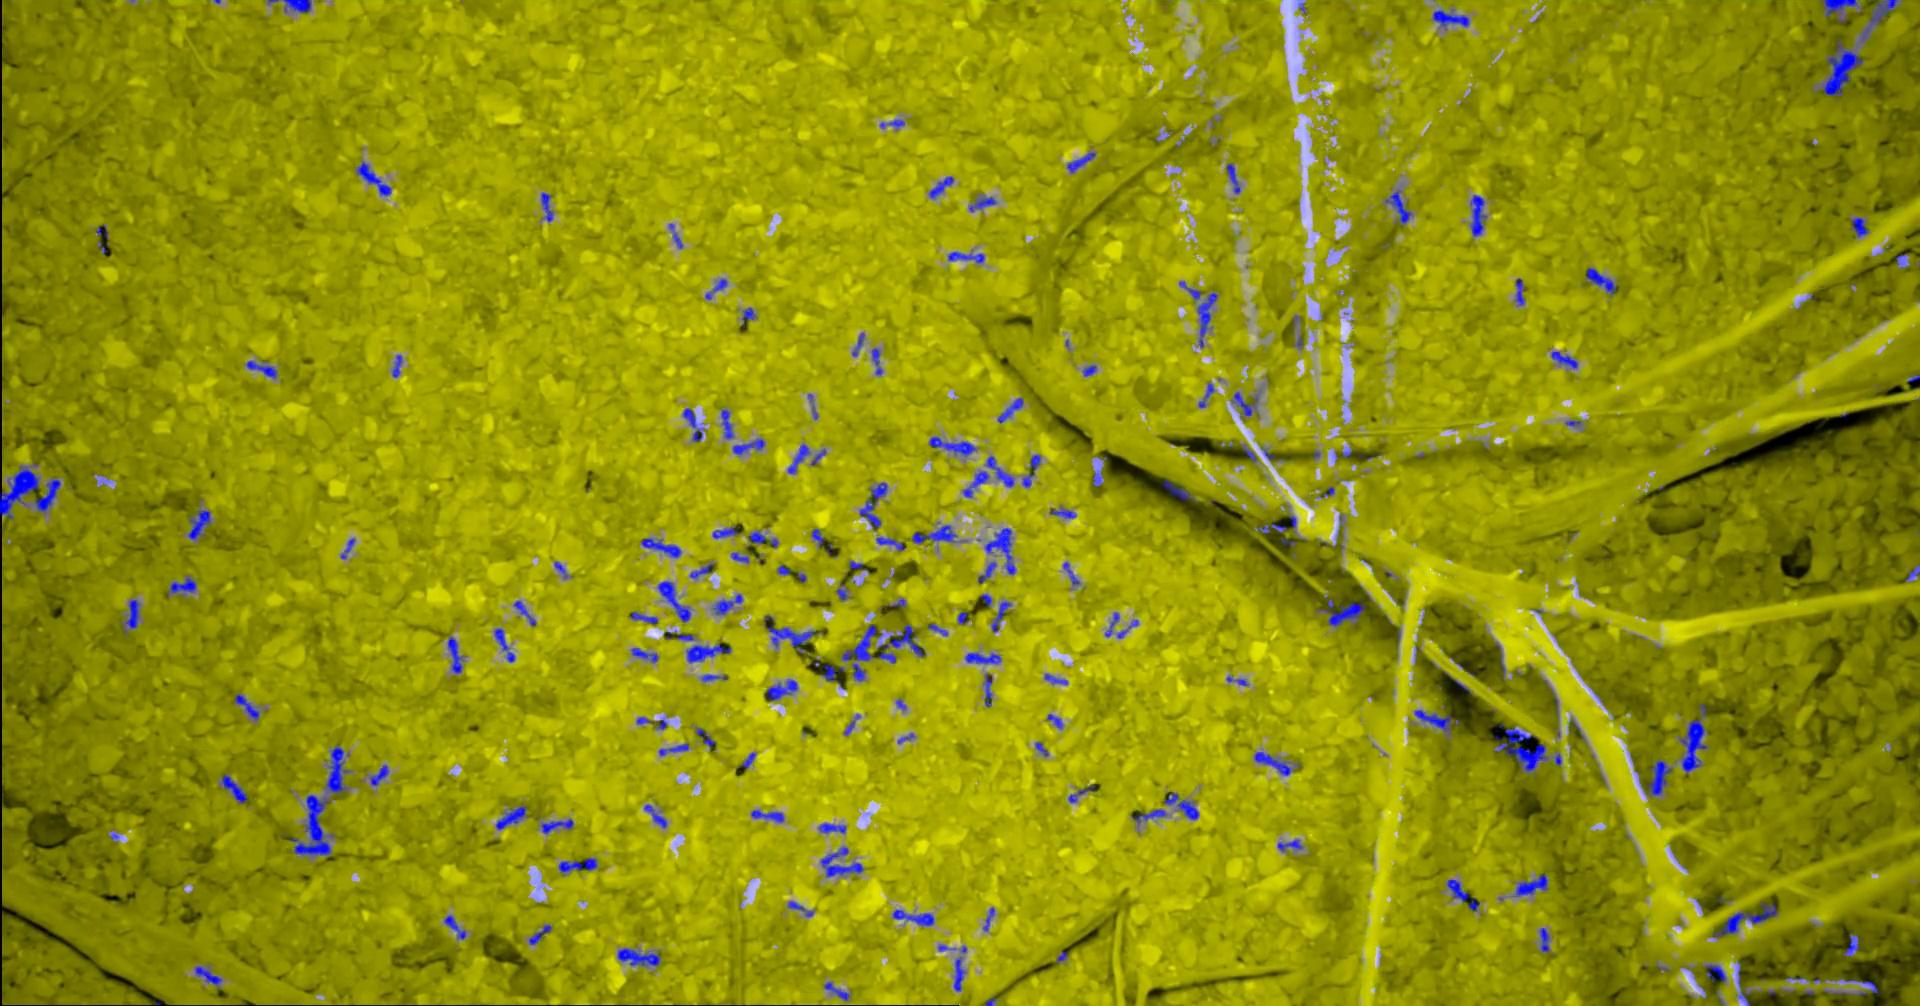ant: (288, 794, 331, 855), (1495, 727, 1547, 774), (1712, 901, 1777, 937), (1821, 39, 1863, 95), (841, 624, 881, 681), (0, 465, 38, 520), (764, 615, 814, 653), (877, 622, 923, 663), (1679, 719, 1707, 774), (984, 527, 1015, 574), (1862, 0, 1897, 39), (657, 580, 690, 621), (858, 481, 888, 527), (820, 846, 863, 876), (1322, 598, 1365, 626), (356, 161, 390, 196), (325, 746, 348, 793), (1446, 879, 1479, 911), (1197, 292, 1217, 347), (811, 658, 844, 688), (928, 436, 975, 456), (1415, 709, 1458, 730), (1164, 791, 1197, 819), (1253, 751, 1291, 775), (985, 455, 1013, 486), (1385, 191, 1411, 225), (1647, 760, 1671, 795), (1585, 267, 1617, 293), (686, 643, 730, 662), (34, 478, 60, 511), (910, 525, 956, 542), (221, 774, 248, 803), (640, 539, 681, 558), (617, 948, 660, 965), (1162, 479, 1196, 500), (495, 805, 526, 829), (1514, 874, 1547, 895), (682, 406, 702, 441), (963, 470, 988, 497), (494, 627, 514, 661), (764, 680, 797, 700), (234, 694, 259, 719), (1230, 391, 1257, 415), (997, 398, 1023, 422), (187, 511, 210, 539), (891, 909, 933, 925), (787, 443, 809, 473), (194, 965, 221, 988), (1821, 0, 1858, 17), (1432, 9, 1469, 25), (557, 857, 597, 873), (712, 593, 742, 614), (1022, 453, 1040, 486), (1470, 194, 1484, 236), (990, 601, 1010, 631), (168, 575, 196, 596), (447, 636, 462, 673), (1065, 152, 1095, 171), (246, 359, 276, 379), (513, 600, 535, 625), (643, 804, 665, 827), (928, 177, 952, 198), (443, 915, 465, 939), (748, 530, 777, 547), (731, 438, 764, 453), (540, 818, 573, 833), (267, 0, 310, 11), (823, 981, 848, 1000), (1550, 351, 1577, 368), (1068, 784, 1095, 801), (528, 923, 551, 944), (1844, 979, 1877, 993), (695, 727, 714, 749), (1131, 809, 1166, 822), (1225, 163, 1239, 193), (968, 196, 996, 211), (964, 652, 1001, 663), (750, 809, 783, 822), (370, 763, 389, 785), (1704, 963, 1726, 982), (1062, 561, 1079, 584), (952, 956, 964, 991), (124, 600, 138, 627), (631, 647, 657, 662), (787, 901, 813, 916), (1178, 281, 1200, 298), (978, 561, 996, 583), (1197, 384, 1214, 406), (1843, 934, 1859, 956), (947, 251, 984, 262), (712, 525, 739, 539), (540, 192, 552, 221), (720, 409, 733, 438), (690, 563, 714, 578), (1103, 612, 1119, 636), (876, 537, 904, 550), (658, 743, 688, 754), (668, 224, 682, 248), (629, 611, 657, 622), (1851, 217, 1868, 236), (1256, 523, 1286, 533), (851, 332, 863, 356), (871, 347, 883, 373), (982, 907, 994, 930), (1277, 840, 1302, 851), (1049, 508, 1076, 518), (818, 822, 844, 832), (742, 307, 756, 326), (1539, 927, 1549, 951), (811, 528, 824, 547), (1515, 278, 1524, 305), (1044, 673, 1067, 683), (1046, 713, 1062, 728), (984, 673, 990, 706), (392, 354, 401, 377), (879, 119, 904, 127), (712, 278, 726, 291), (701, 674, 726, 681), (1082, 365, 1096, 376), (730, 553, 748, 561), (1092, 471, 1102, 486)
